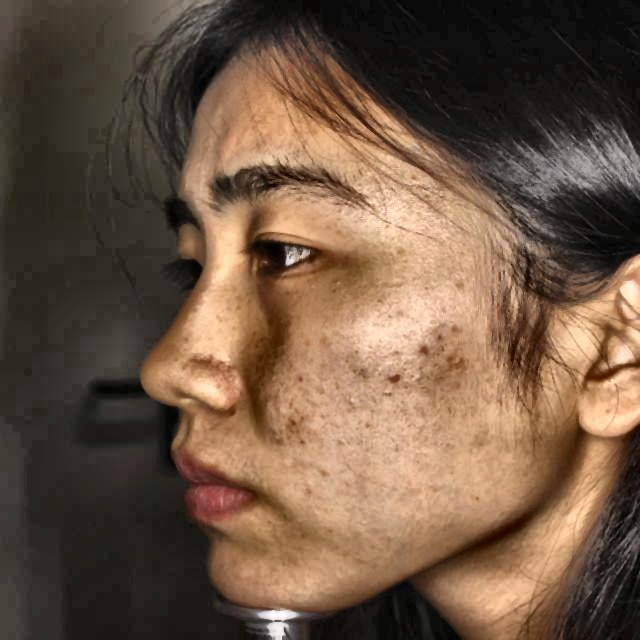comedone: (289, 414, 322, 442), (382, 370, 407, 387)
